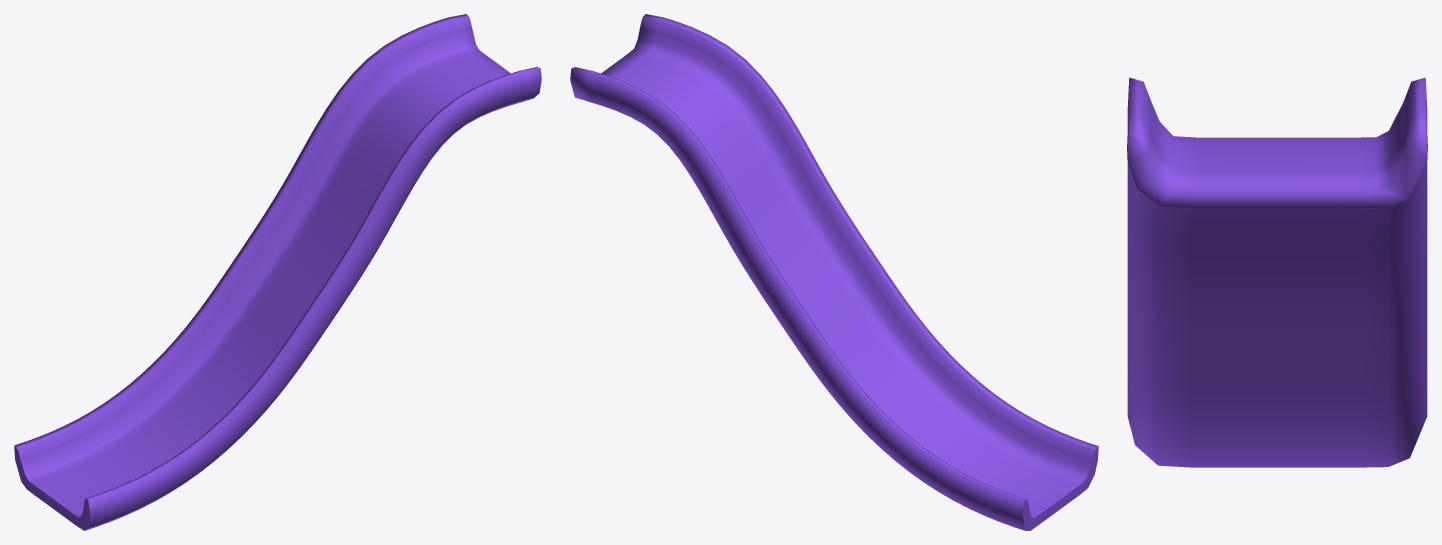
3 views of the same model, side by side, from view 1: azimuth 30°, elevation 25°; view 2: azimuth 150°, elevation 25°; view 3: azimuth 270°, elevation 25° (orthographic). The views are drawn at different scales.
Parts seen in each view (by area): view 1: polySurface325; view 2: polySurface325; view 3: polySurface325.
Boxes of the visible parts, x1=… form: polySurface325: x1=14, y1=14, x2=541, y2=530; polySurface325: x1=570, y1=14, x2=1098, y2=530; polySurface325: x1=1127, y1=77, x2=1427, y2=467.
Bounding box in the file's own units: 30.36 × 23.03 × 8.71.
